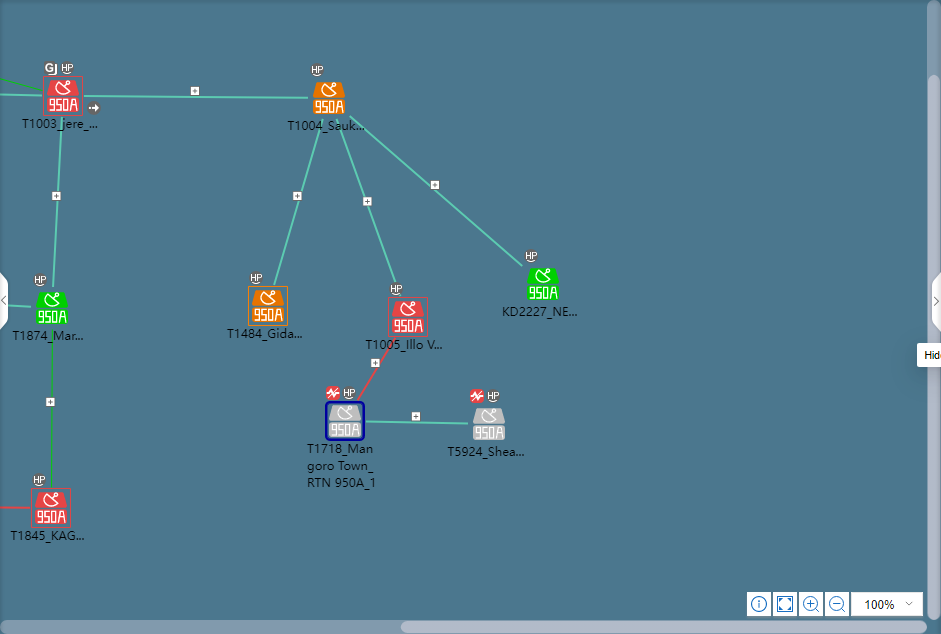Link_Blue: (348, 114, 523, 269), (335, 118, 398, 283), (271, 118, 325, 286), (51, 117, 63, 287), (84, 95, 309, 100), (366, 420, 469, 426), (7, 303, 31, 311), (0, 93, 41, 97)
Link_Green: (49, 329, 55, 487), (0, 75, 41, 92)
Link_Red: (355, 337, 398, 401), (0, 505, 30, 510)
RTN_Gray: (326, 404, 363, 440), (473, 409, 504, 441)
RTN_Green: (36, 292, 67, 324), (527, 269, 558, 300)
RTN_Orange: (251, 290, 284, 323), (313, 82, 344, 114)
RTN_Red: (33, 491, 68, 526), (47, 79, 82, 112), (392, 302, 424, 334)
